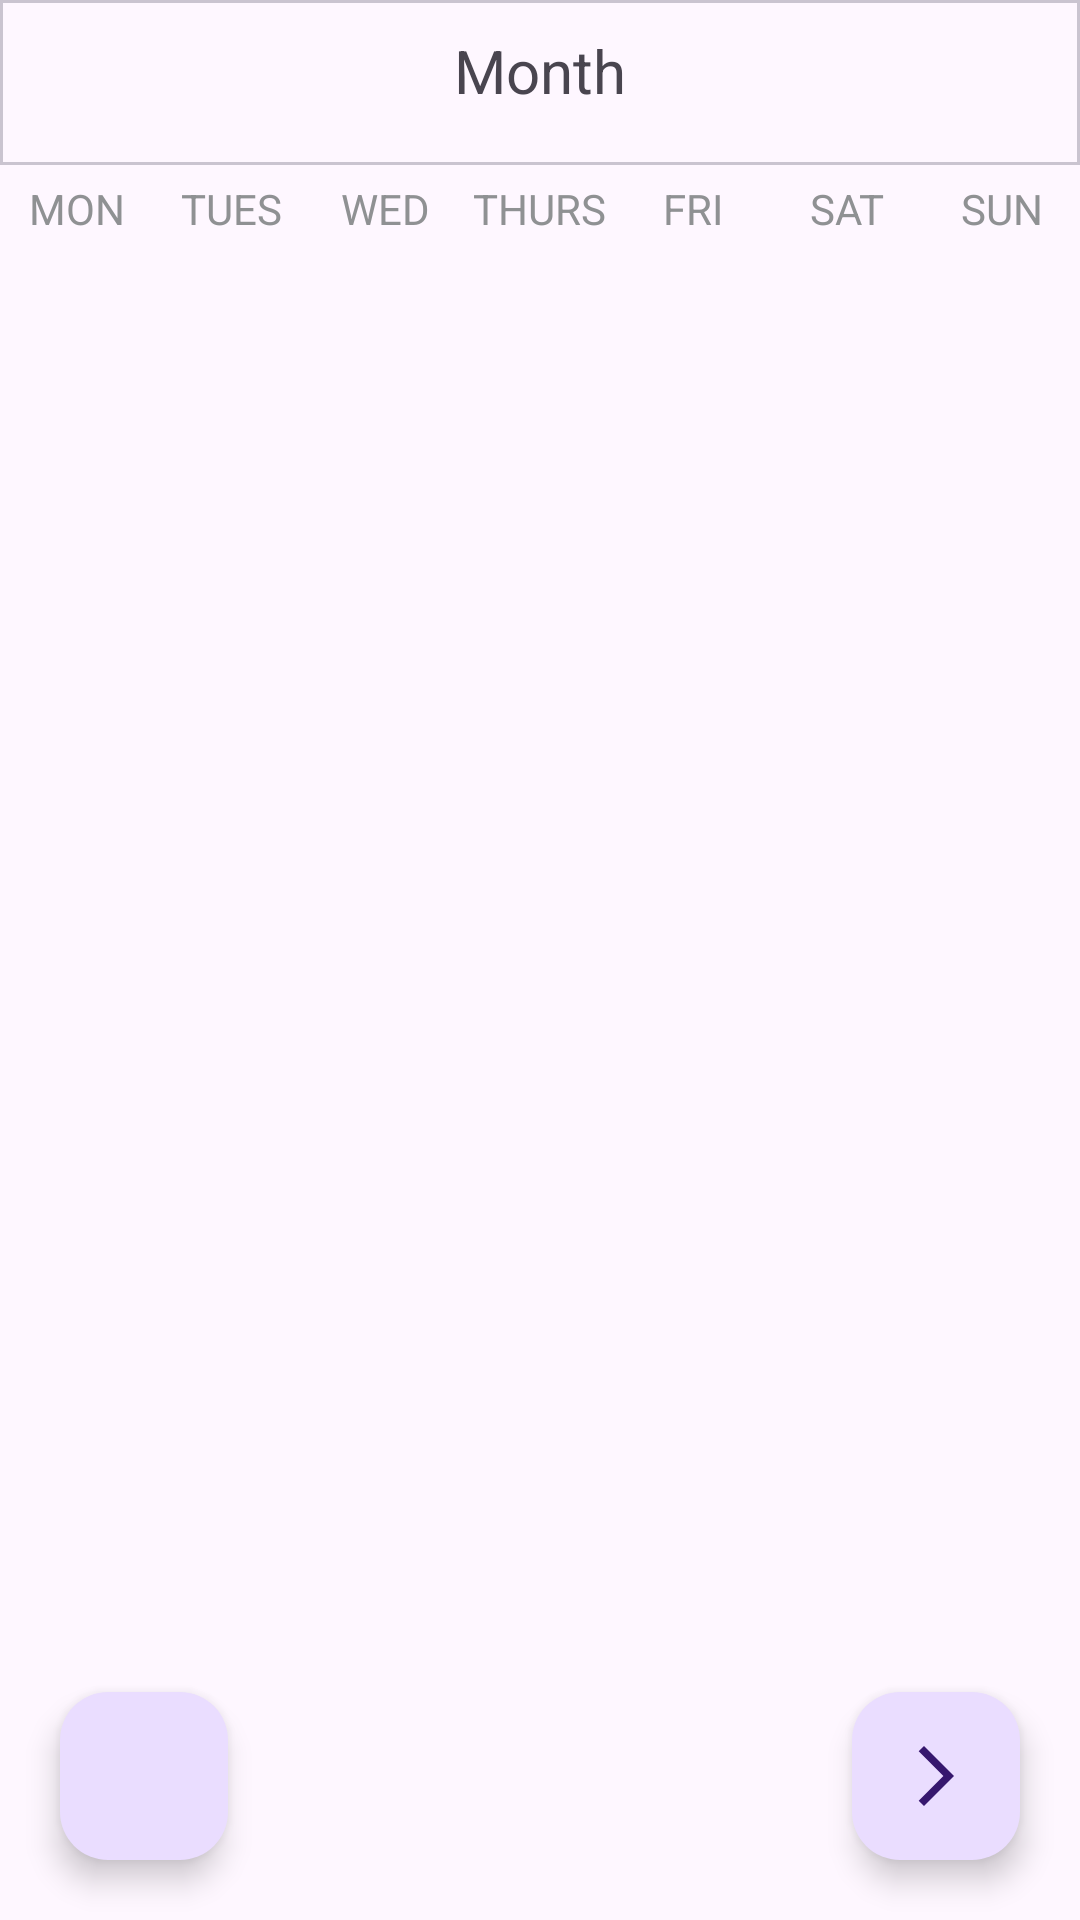

Named icons in this screenshot (1080px x 1920px) and their bounding boxes, (x1, y1, x2, y2):
arrow forward: (852, 1692, 1020, 1860)
